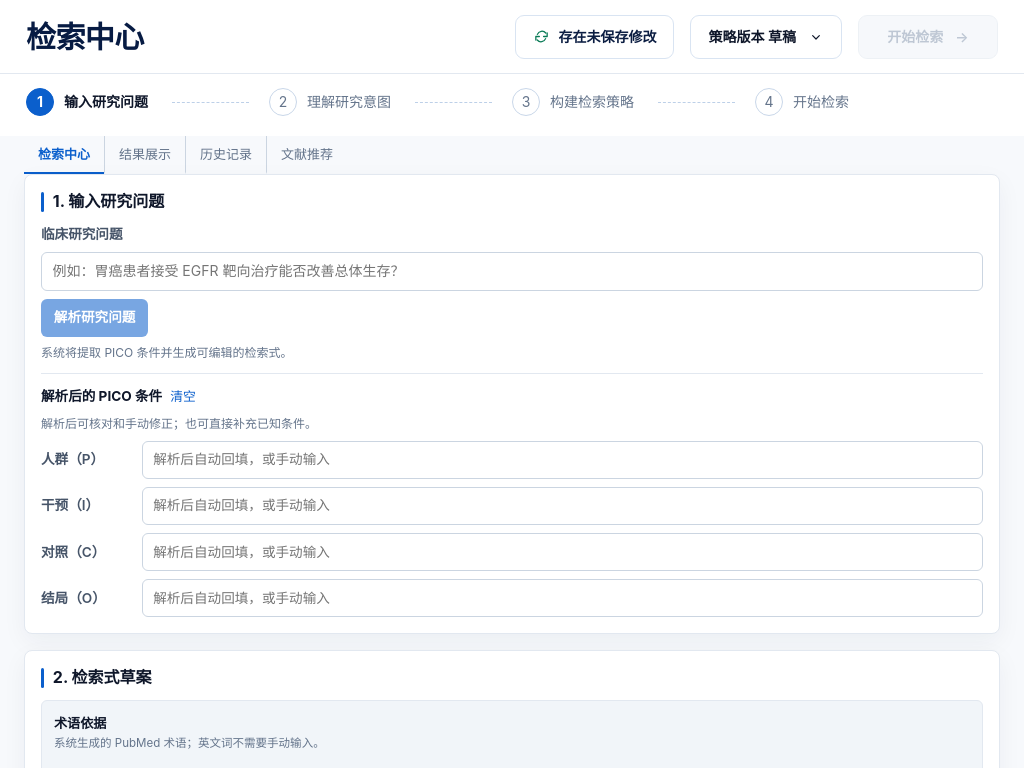
Test case: shows workspace title, tabs, and empty strategy state
Expected: the element with class "strategy-builder" is shown, [24,174,1000,634]
Expected: the button "解析研究问题" is shown, [41,299,148,337]
Click the tab "结果展示" at [144, 155], box [104,136,185,174]
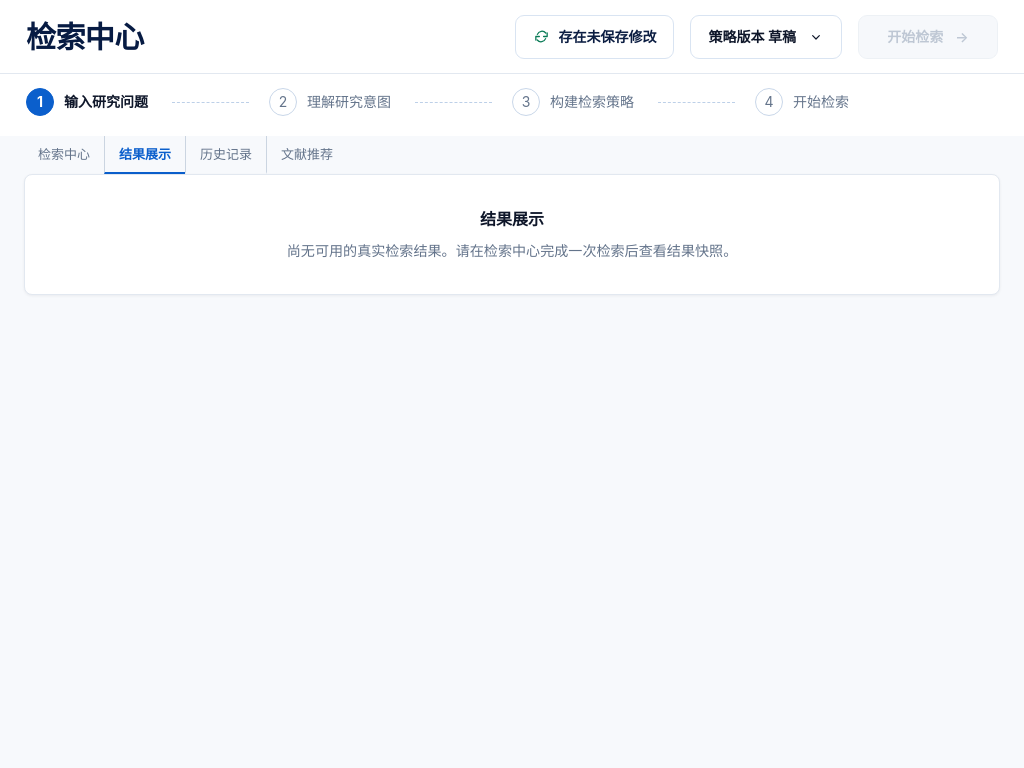
Result: the text "尚无可用的真实检索结果" is shown at [287,242,737,259]
